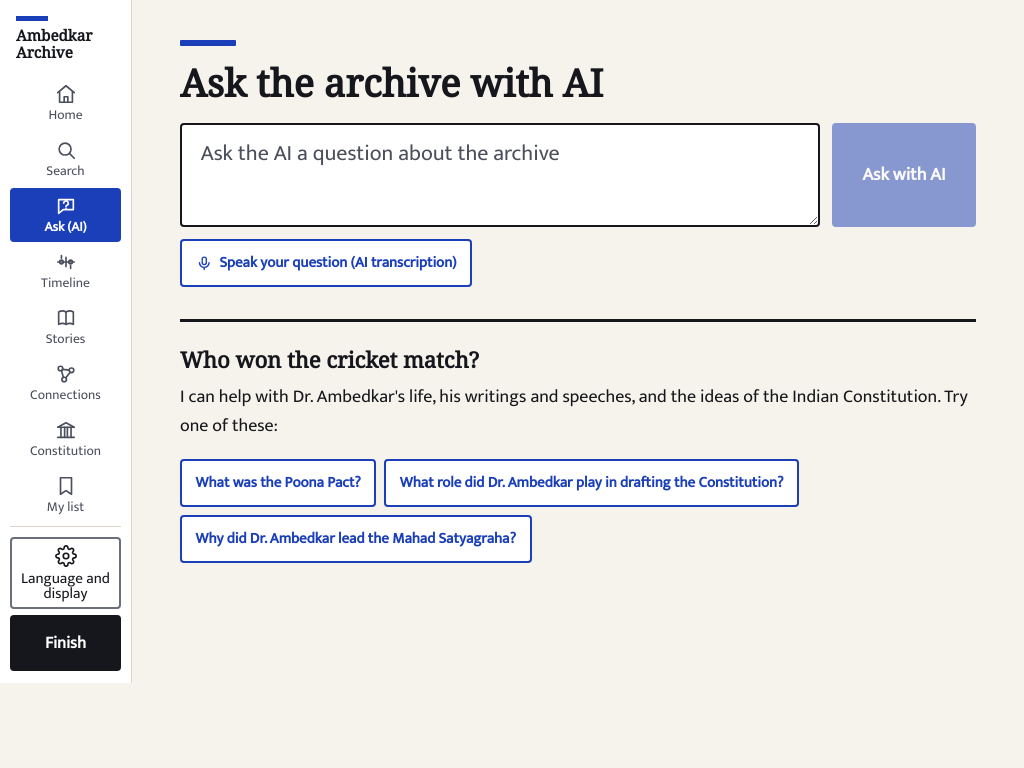
Ask beyond the archive › an off-topic question offers suggested questions that ask on click
Click the button "What was the Poona Pact?": (278, 483) [180,459,376,507]
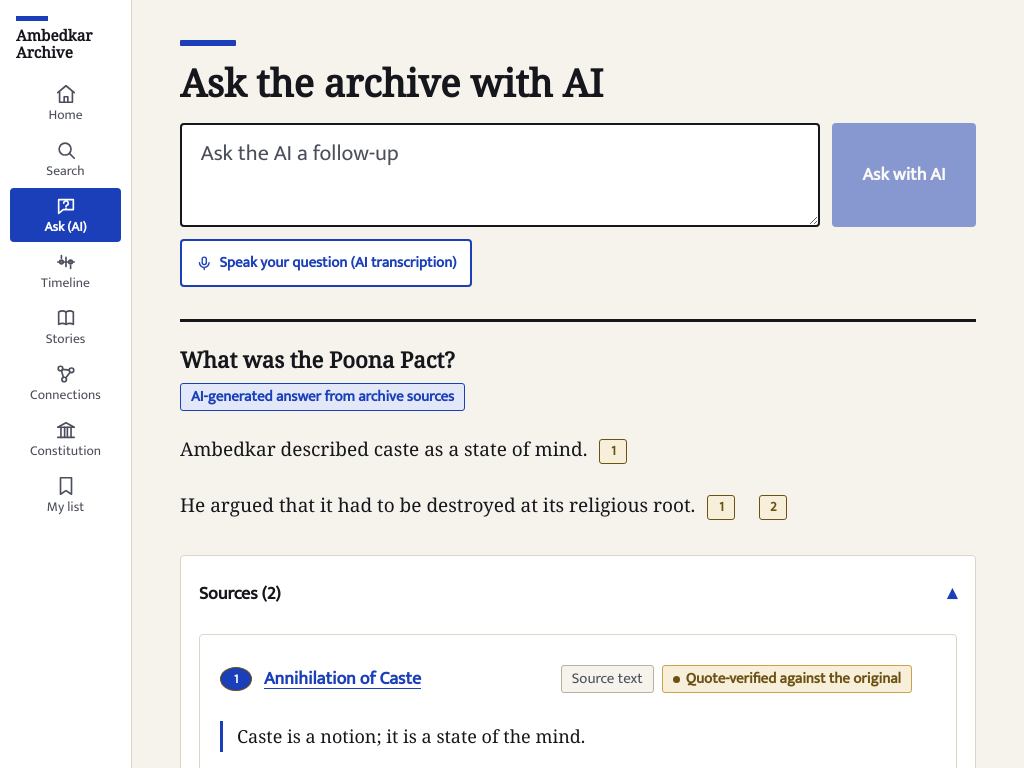
expect the heading "What was the Poona Pact?" is shown: met, box [180,344,455,374]
